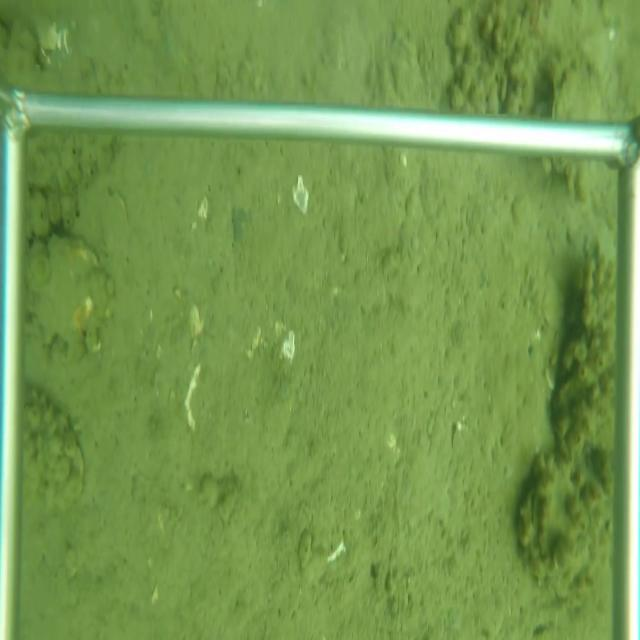Oyster-Closed: (548, 67, 600, 118)
Oyster-Indeterminate: (23, 382, 87, 511)
